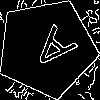A: (22, 23, 78, 80)
